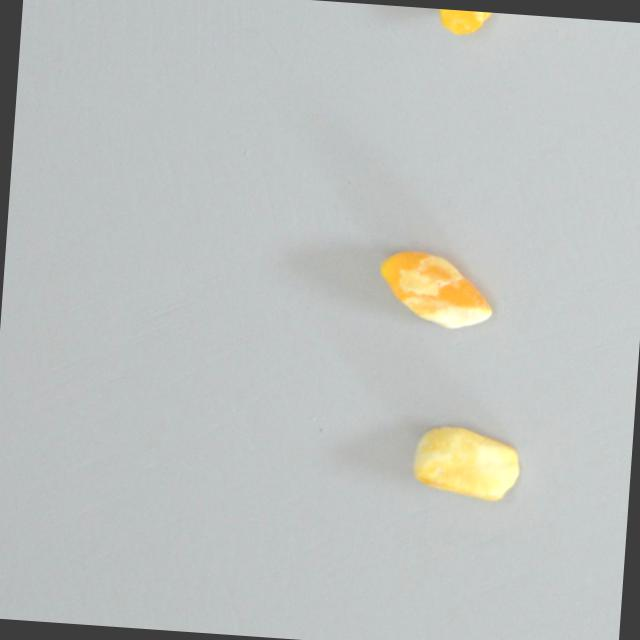estandar: (410, 421, 520, 503), (431, 7, 538, 40)
pelicula: (372, 247, 496, 334)
